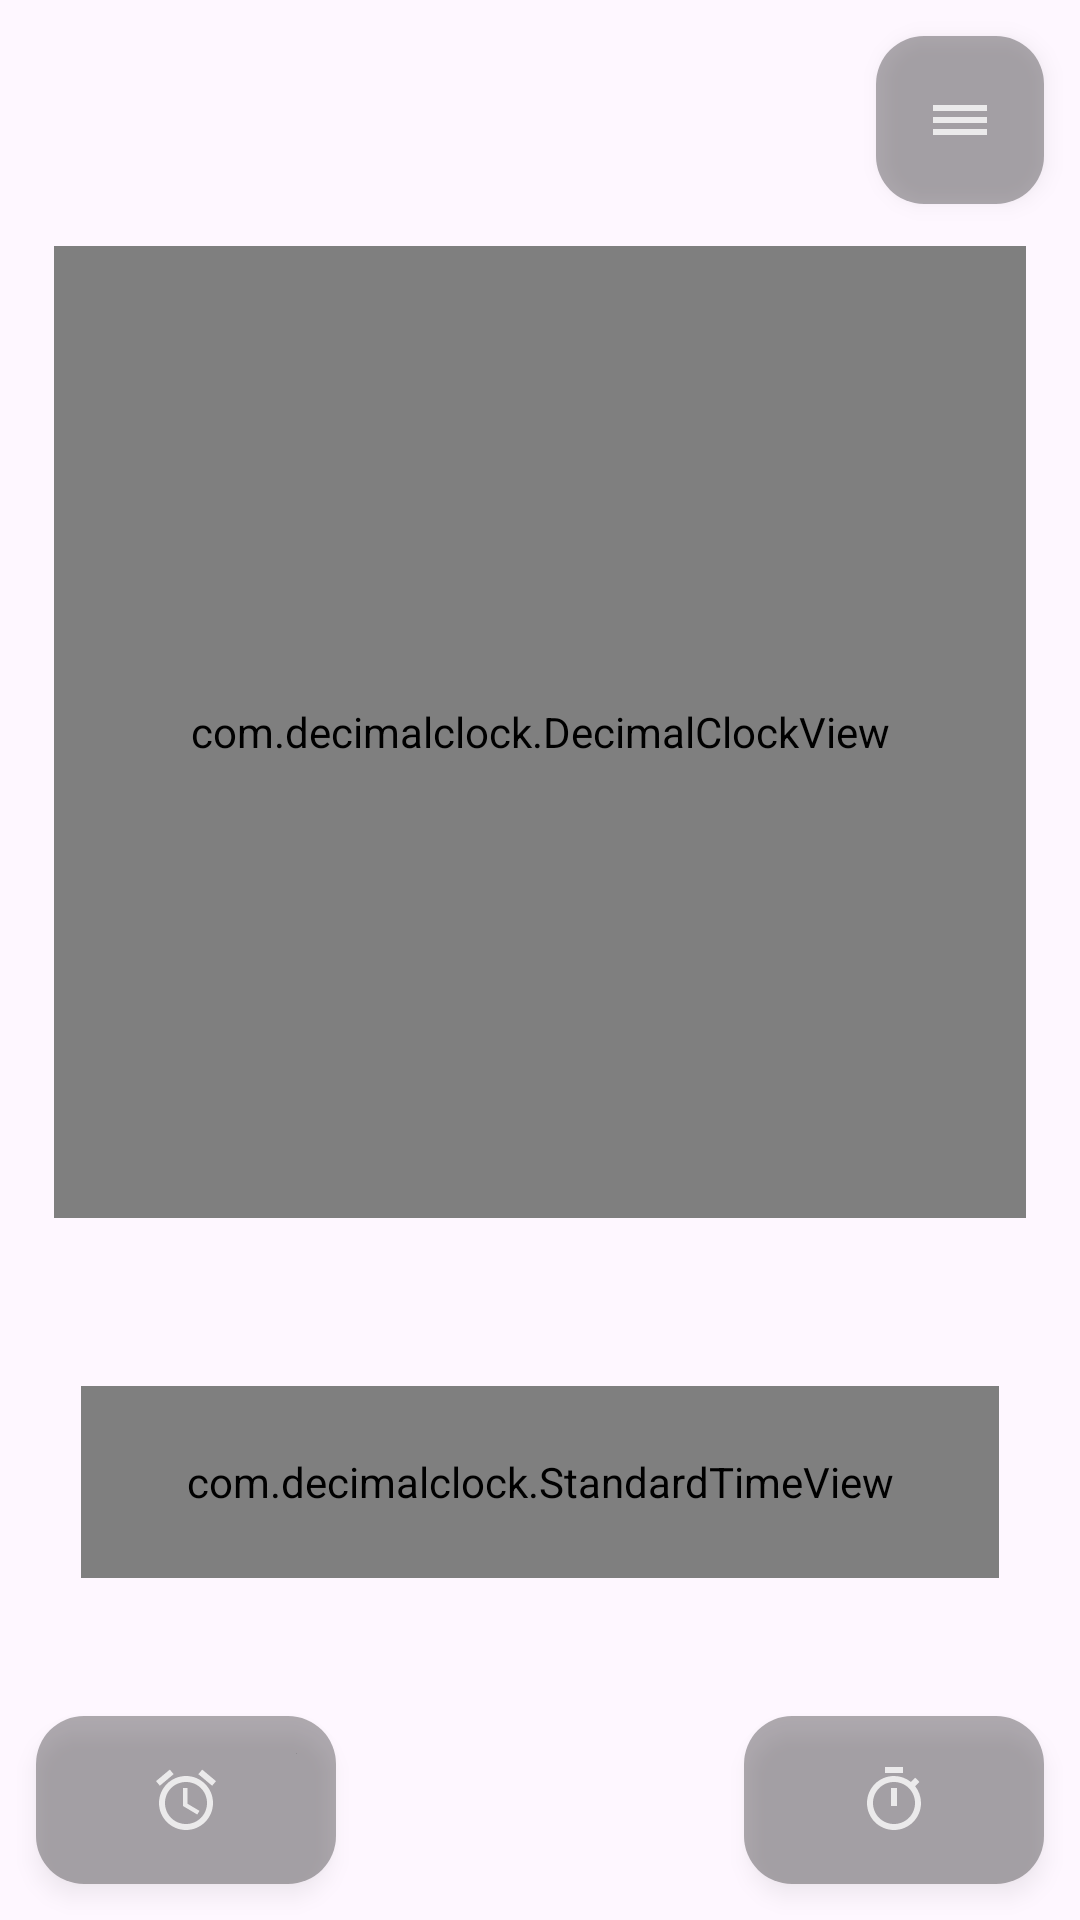

Screen size 1080 x 1920. Icon name, then its center in pixels as (x=x, y=y):
Будильник: (x=186, y=1800)
Таймер: (x=894, y=1800)
